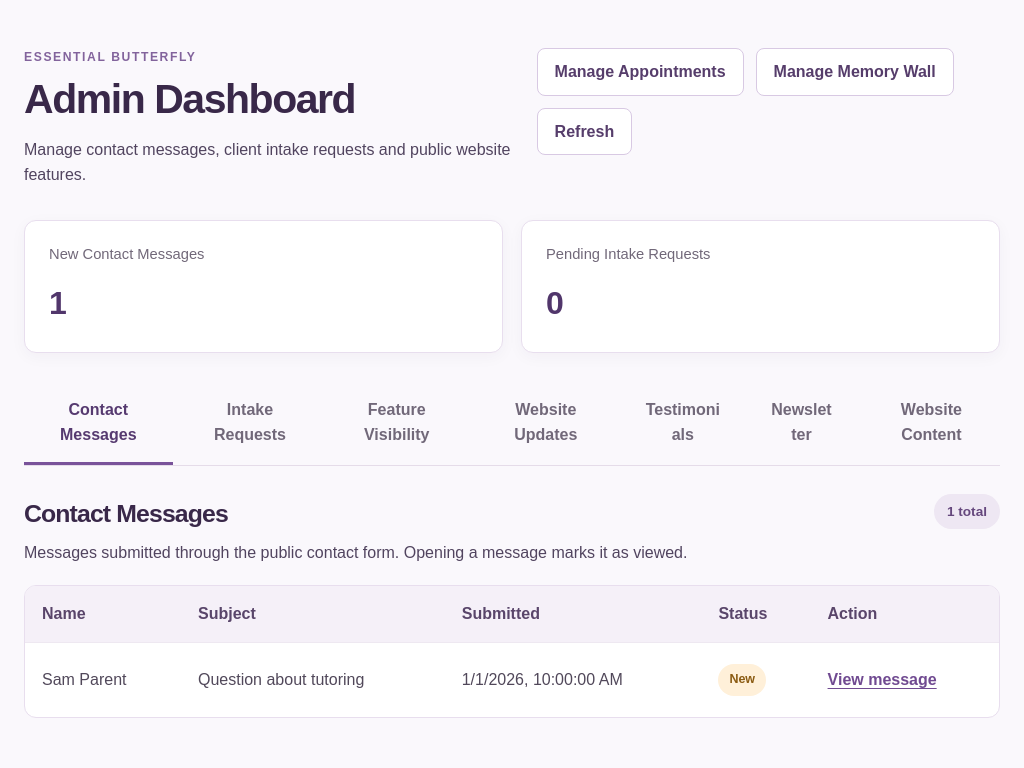
Test case: AdminDashboard › opens a contact message and marks it as viewed
Click the button "View message": (882,680) left=828, top=658, right=937, bottom=702
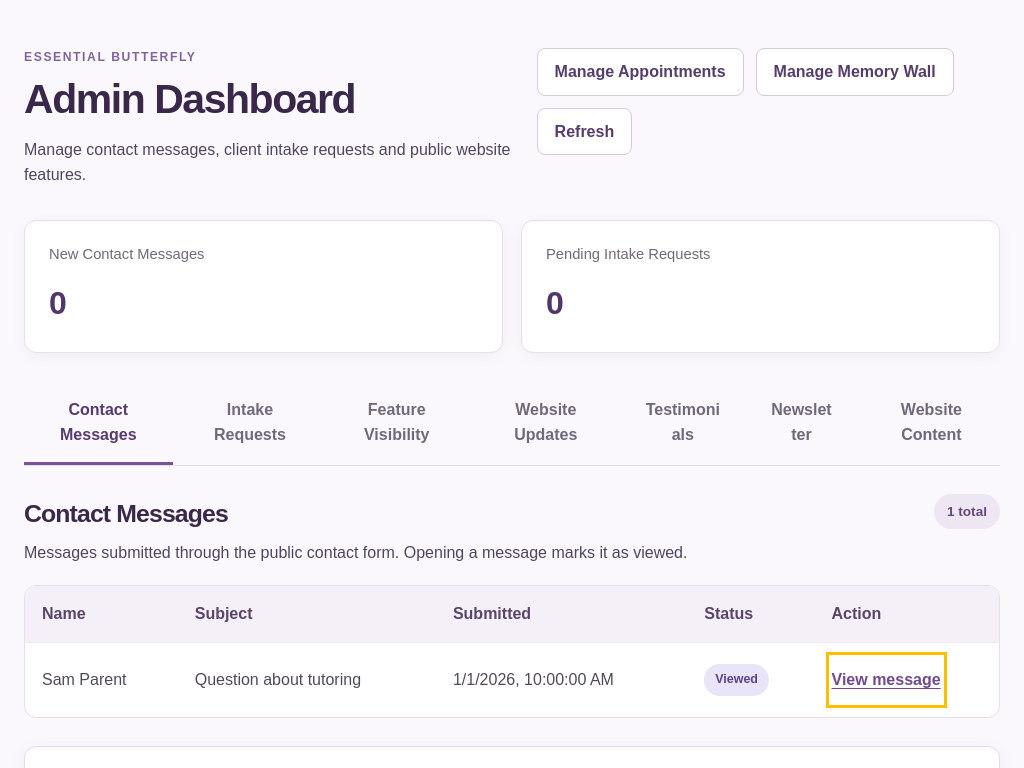
Result: the text "Viewed" is shown at left=704, top=664, right=769, bottom=696
